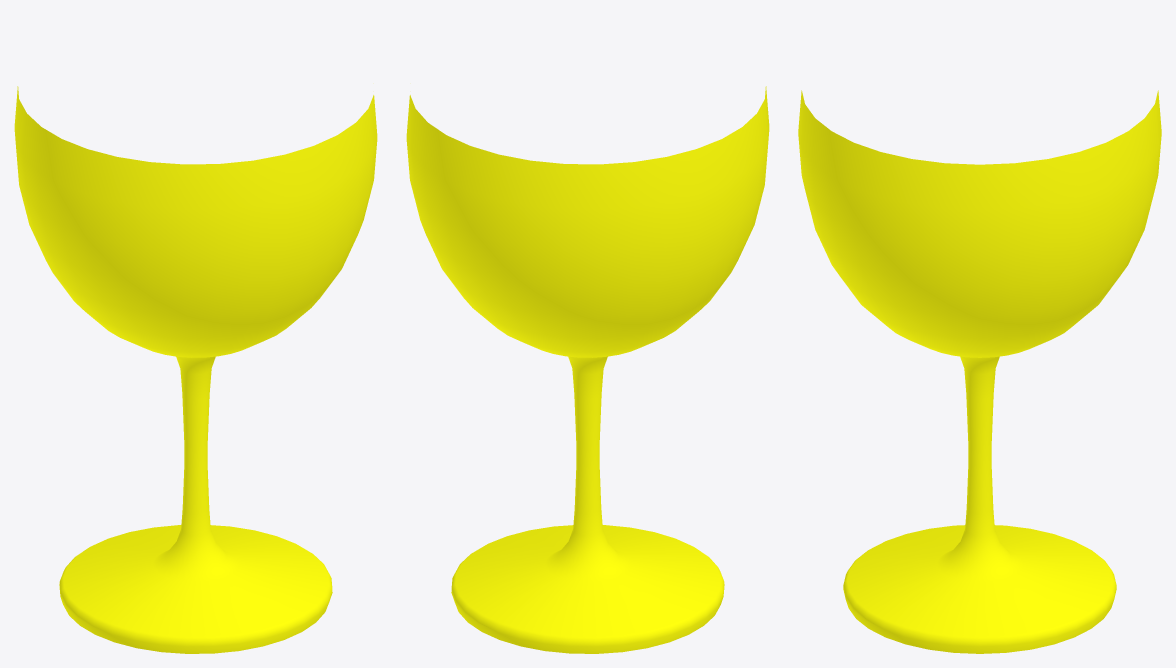
File: SM_Cup01.glb
3 renders of one model, left to right at view 1: azimuth 30°, elevation 25°; view 2: azimuth 150°, elevation 25°; view 3: azimuth 270°, elevation 25°, orthographic.
Visible parts, largest first — view 1: SM_Cup01; view 2: SM_Cup01; view 3: SM_Cup01.
Boxes of the visible parts, left/top/right/bottom form: SM_Cup01: left=14, top=86, right=377, bottom=653; SM_Cup01: left=406, top=86, right=769, bottom=653; SM_Cup01: left=798, top=90, right=1161, bottom=653.
Size of what is drawn, in the model's own units: 0.1288 by 0.1985 by 0.1288.
1 material, 1 textured.
